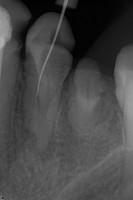Furcation Involvement: (39, 129, 59, 161)
